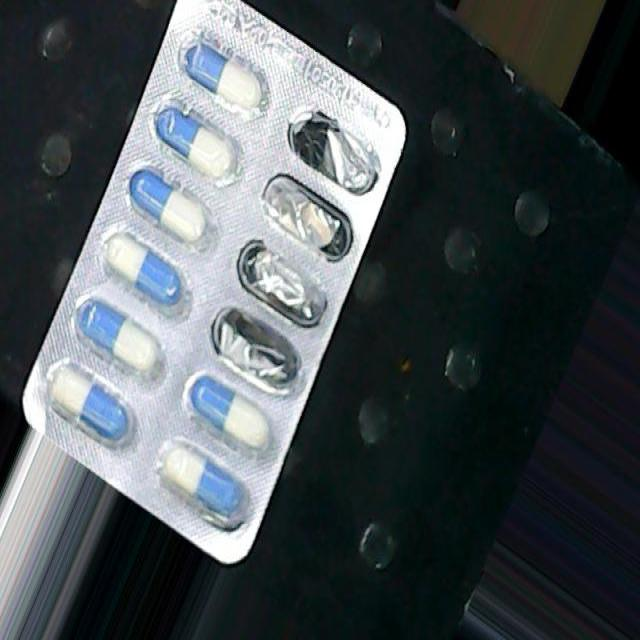-Hazardous waste - medicine inner packaging-: (22, 0, 404, 565)
